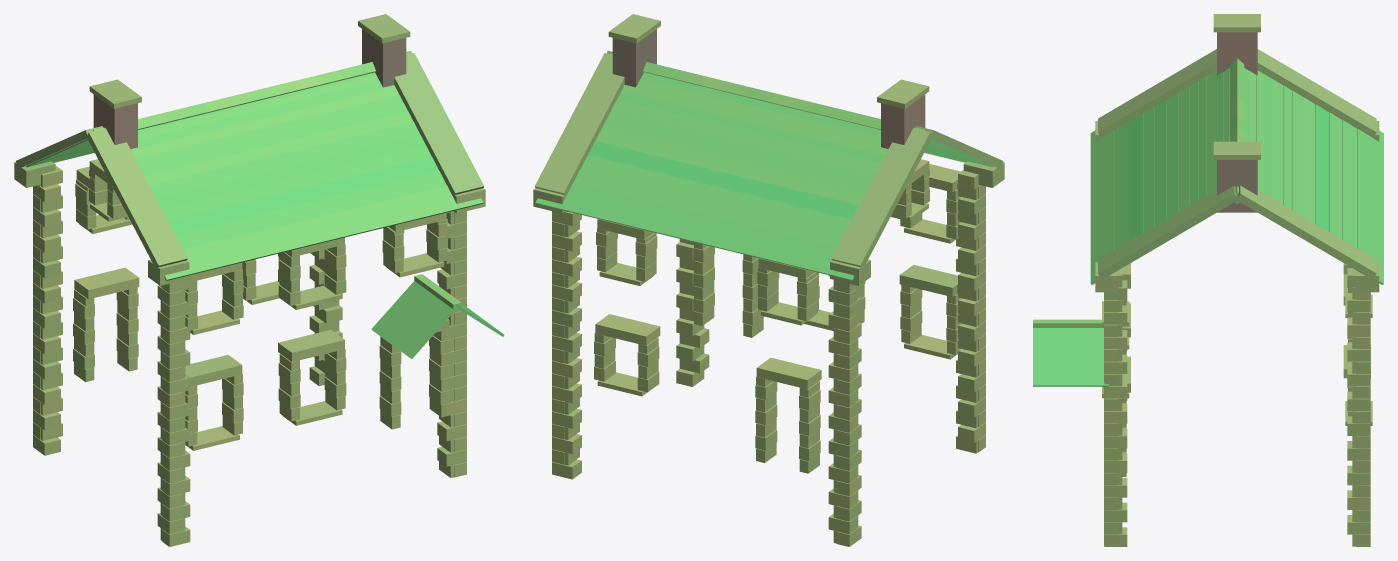
File: SM_Bld_067_Stone.glb
3 views of the same model, side by side, from view 1: azimuth 30°, elevation 25°; view 2: azimuth 150°, elevation 25°; view 3: azimuth 270°, elevation 25° (orthographic). The views are drawn at different scales.
Parts seen in each view (by area): view 1: SM_Bld_067_Stone; view 2: SM_Bld_067_Stone; view 3: SM_Bld_067_Stone.
Part boxes in pixels (x1,y1,x2,y2): SM_Bld_067_Stone: [14, 14, 504, 546]; SM_Bld_067_Stone: [533, 14, 1004, 546]; SM_Bld_067_Stone: [1033, 14, 1383, 546].
Size of the model in its own units: 8.07 by 9.52 by 7.72.
